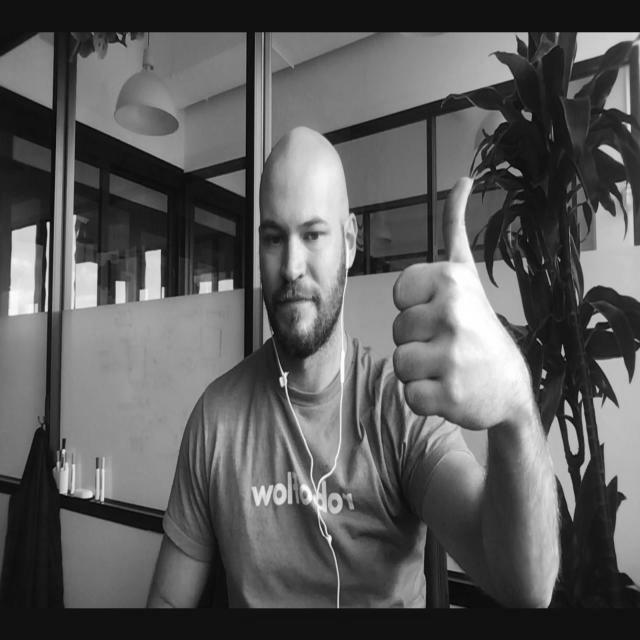real: (258, 142, 361, 354)
